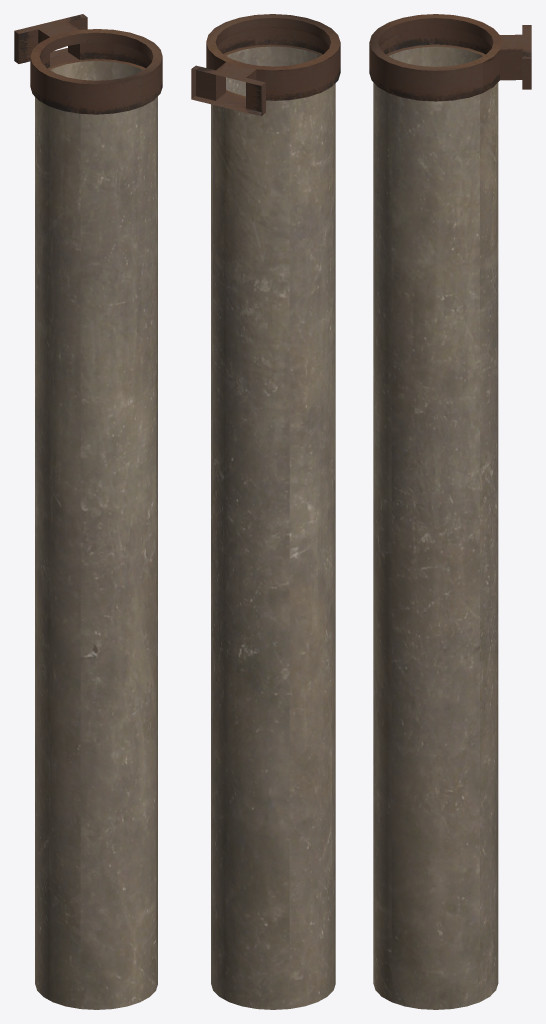
The model's file is Pipe01.fbx.
The picture shows the model from 3 angles, left to right: view 1: azimuth 30°, elevation 25°; view 2: azimuth 150°, elevation 25°; view 3: azimuth 270°, elevation 25°; orthographic projection.
Parts seen in each view (by area): view 1: Cylinder (40); view 2: Cylinder (40); view 3: Cylinder (40).
Boxes of the visible parts, x1,y1,x2,y2 form: Cylinder (40): [14, 14, 162, 1009]; Cylinder (40): [191, 14, 340, 1009]; Cylinder (40): [369, 14, 531, 1009].
Bounding box in the file's own units: 27.26 × 210 × 32.82.
